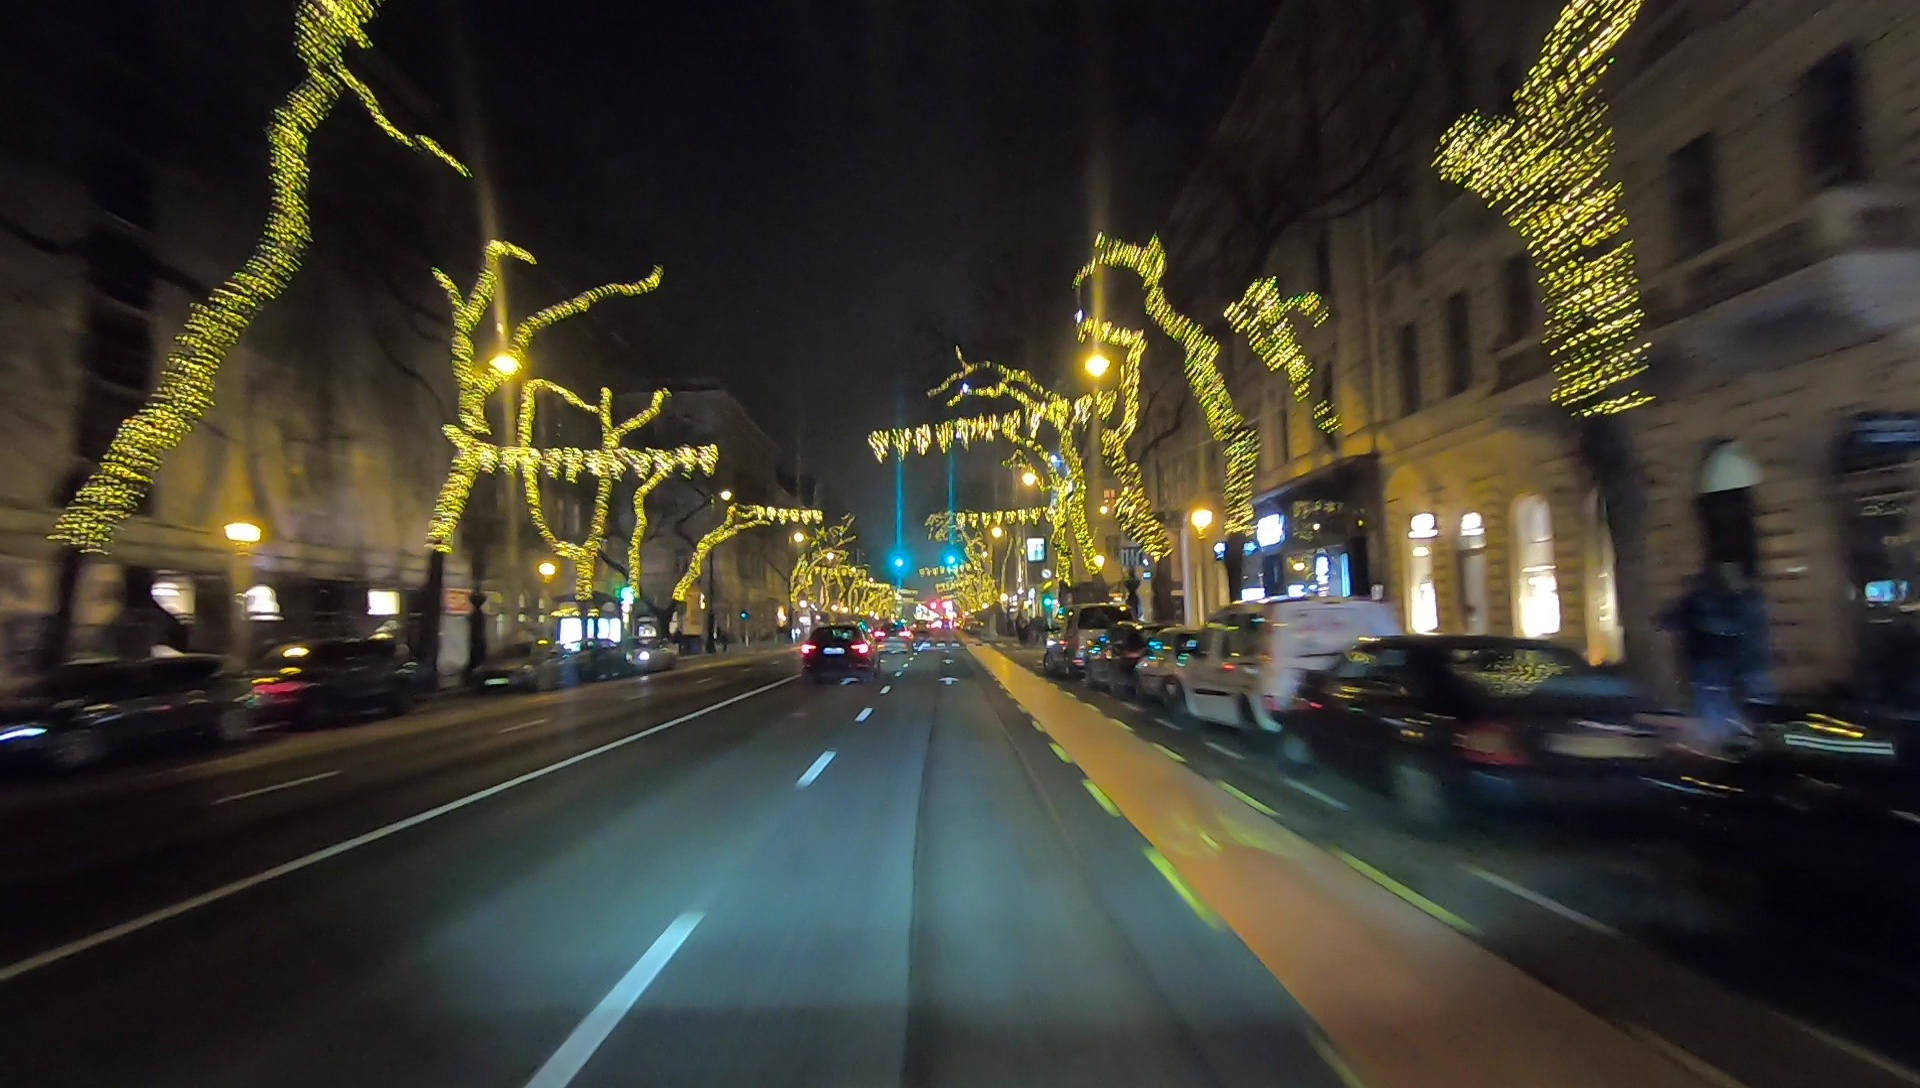person: (1669, 574, 1736, 739), (1710, 565, 1767, 723)
